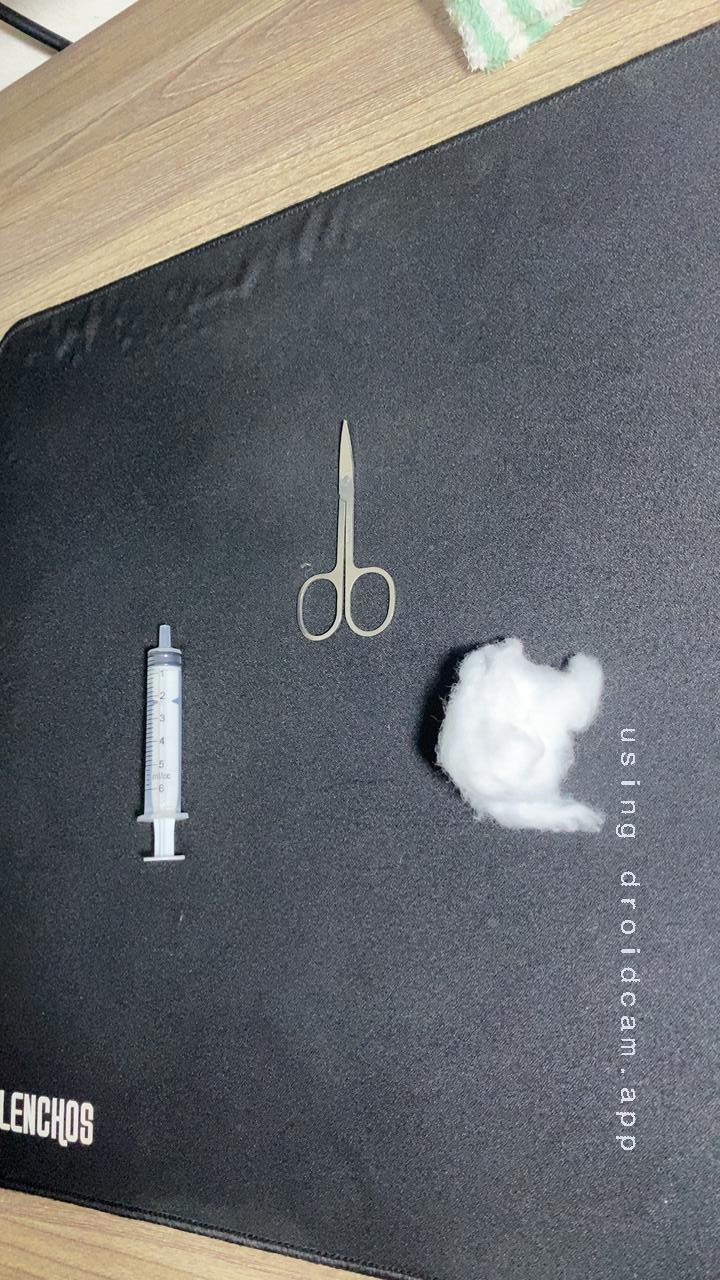cotton: (402, 627, 639, 843)
scissor: (272, 415, 413, 651)
syringe: (109, 613, 218, 878)
